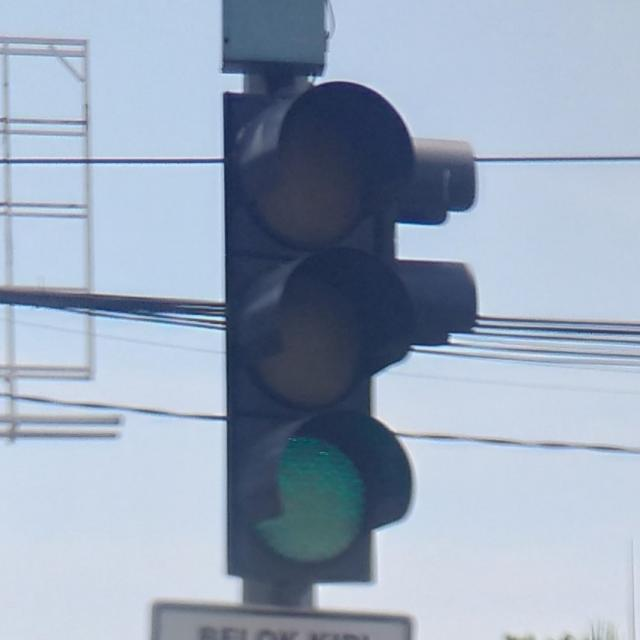green light: (225, 84, 417, 582)
